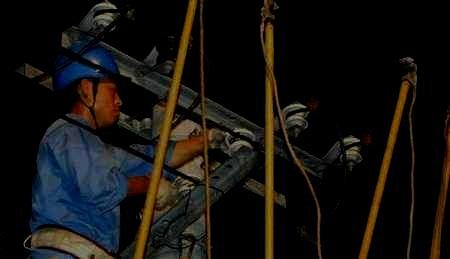helmet: (50, 39, 123, 127)
